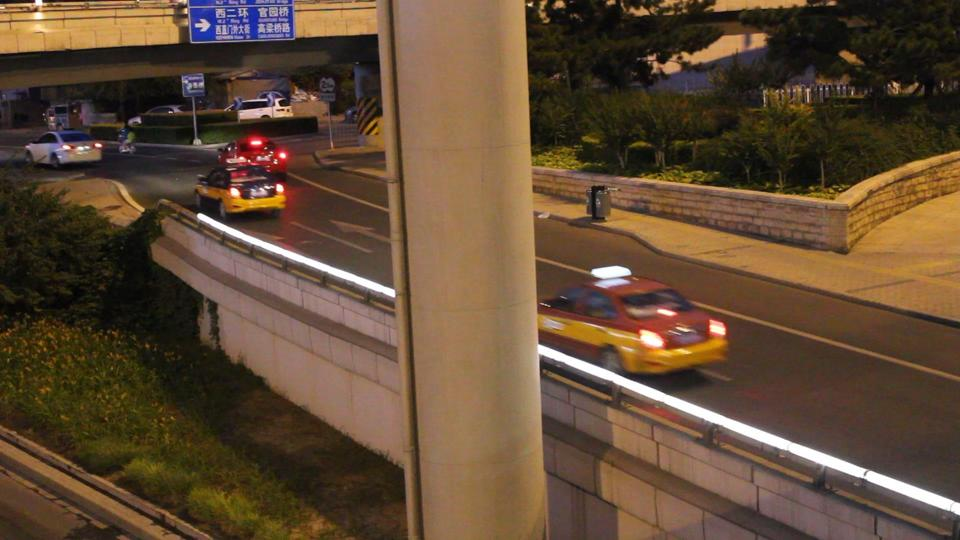Car: (509, 265, 726, 378), (192, 157, 284, 218), (221, 135, 289, 181)
